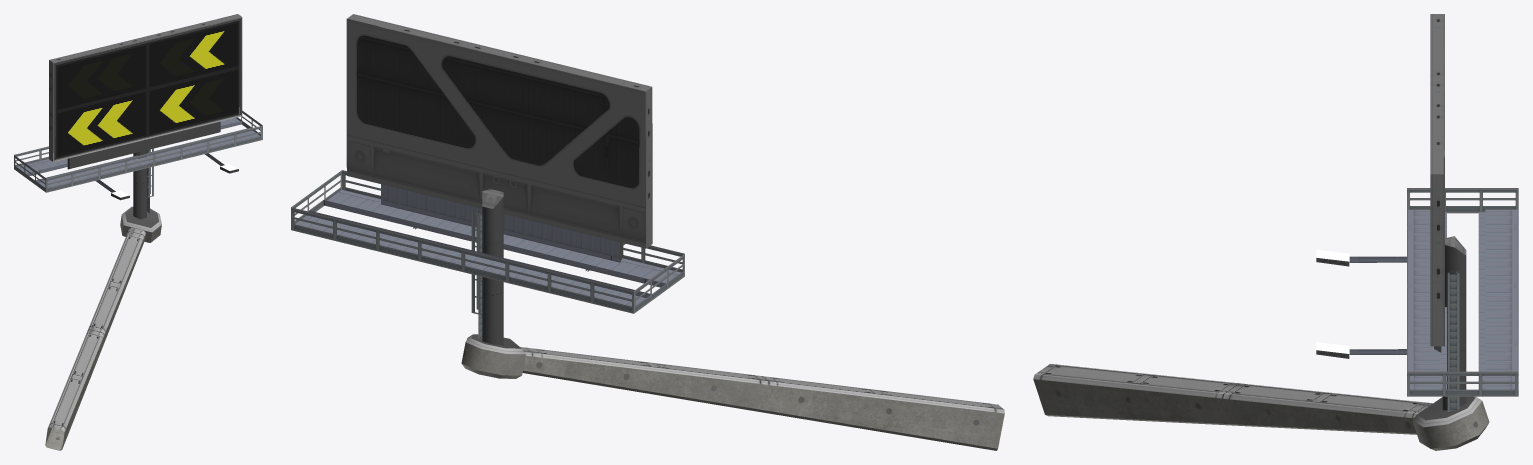
File: prop_billboard_direction_attachment.fbx
3 renders of one model, left to right at view 1: azimuth 30°, elevation 25°; view 2: azimuth 150°, elevation 25°; view 3: azimuth 270°, elevation 25°, orthographic. The views are drawn at different scales.
Visible parts, largest first — view 1: prop_billboard_left, tower_attachment; view 2: prop_billboard_left, tower_attachment; view 3: prop_billboard_left, tower_attachment.
Part boxes in pixels (bbox=[...]): prop_billboard_left: bbox=[14, 14, 262, 219]; tower_attachment: bbox=[45, 206, 161, 450]; prop_billboard_left: bbox=[291, 14, 684, 345]; tower_attachment: bbox=[461, 334, 1004, 450]; prop_billboard_left: bbox=[1316, 14, 1518, 411]; tower_attachment: bbox=[1033, 364, 1489, 450].
Size of the model in its own units: 3442 by 2927 by 2629.
